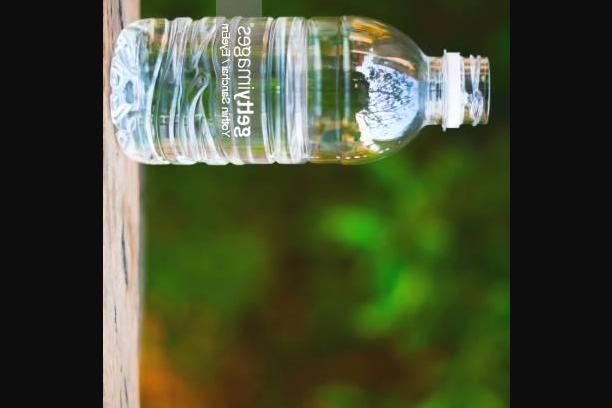bottle: (102, 7, 499, 172)
